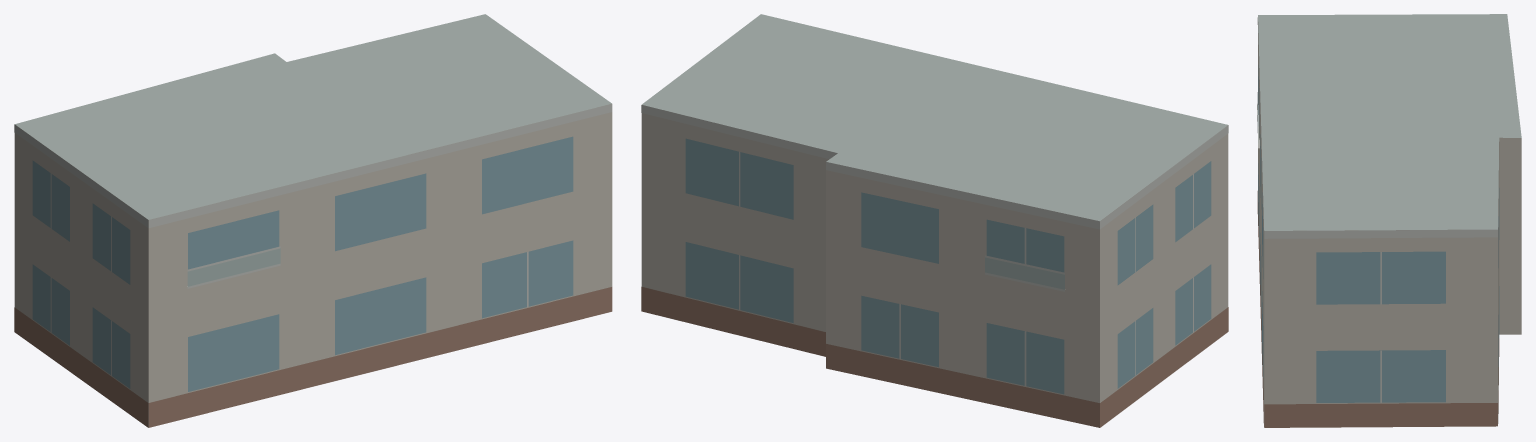
File: survey-upis-32737750.glb
3 renders of one model, left to right at view 1: azimuth 30°, elevation 25°; view 2: azimuth 150°, elevation 25°; view 3: azimuth 270°, elevation 25°, orthographic. The views are drawn at different scales.
Visible parts, largest first — view 1: survey-upis-32737750.tmp; view 2: survey-upis-32737750.tmp; view 3: survey-upis-32737750.tmp.
Part boxes in pixels (box(x1,y1,x2,y2)): survey-upis-32737750.tmp: box(14, 14, 612, 427); survey-upis-32737750.tmp: box(641, 14, 1228, 427); survey-upis-32737750.tmp: box(1257, 14, 1521, 427).
Size of the model in its own units: 14.43 by 6.1 by 7.44.
